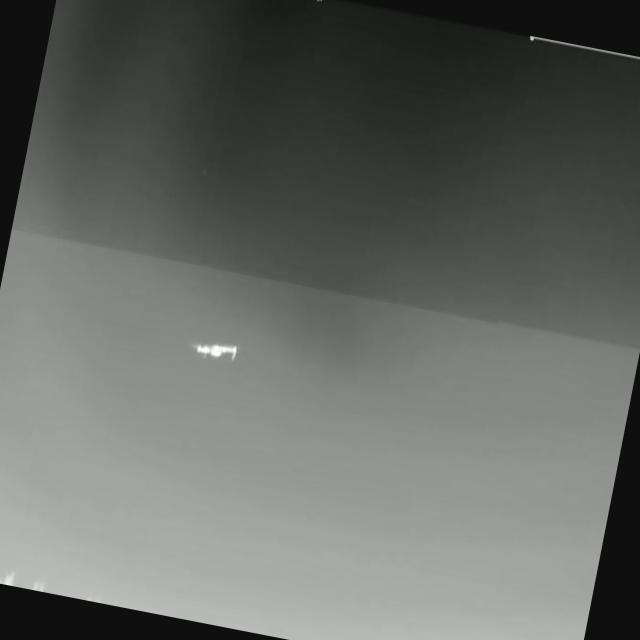DRONE: (178, 325, 250, 373)
